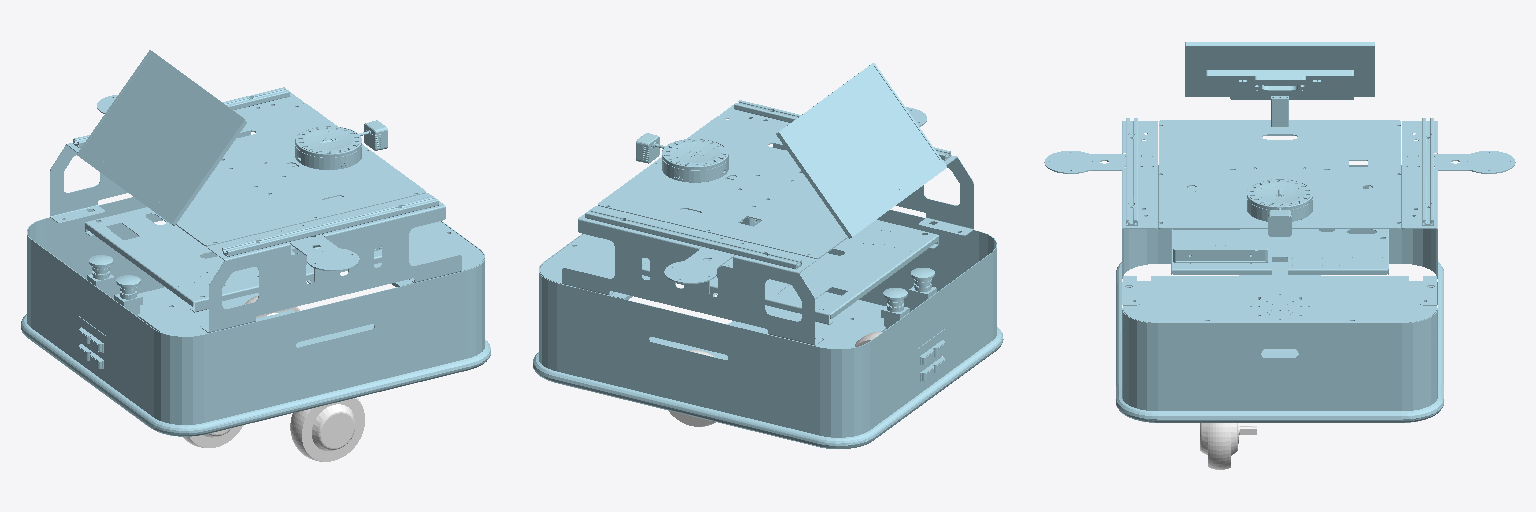
robot.urdf — lucsys_lse550_mec:
<?xml version="1.0" encoding="utf-8"?>
<robot name="lucsys_lse550_mec">
  <link name="base_link">
    <inertial>
      <origin xyz="-0.0176284106363391 -0.0212065922126046 0.00705733641663178" rpy="0 0 0" />
      <mass value="0.679600252032273" />
      <inertia ixx="0.000516343641288595" ixy="-1.73660367632987E-06" ixz="-4.24522803621893E-07" iyy="0.000760747638398563" iyz="-2.61267723541993E-07" izz="0.00116528983259254" />
    </inertial>
    <visual>
      <origin xyz="0 0 0" rpy="0 0 0" />
      <geometry>
        <mesh filename="package://lucsys_lse550_description/meshes/lse550_mec/base_link.STL" />
      </geometry>
      <material name="lucsys_material_0">
        <color rgba="0.741176470588235 0.901960784313726 0.956862745098039 1" />
      </material>
    </visual>
    <collision>
      <origin xyz="0 0 0" rpy="0 0 0" />
      <geometry>
        <mesh filename="package://lucsys_lse550_description/meshes/lse550_mec/base_link.STL" />
      </geometry>
    </collision>
  </link>
  <link name="lf_wheel_link">
    <inertial>
      <origin xyz="-4.83478163075103E-05 -0.00361887872849199 2.36591801651906E-05" rpy="0 0 0" />
      <mass value="0.0567325127195103" />
      <inertia ixx="2.10255136964011E-05" ixy="-1.1023479242183E-08" ixz="3.75231887164477E-09" iyy="3.39275378717873E-05" iyz="-8.51218162606208E-10" izz="2.10059722946959E-05" />
    </inertial>
    <visual>
      <origin xyz="0 0 0" rpy="0 0 0" />
      <geometry>
        <mesh filename="package://lucsys_lse550_description/meshes/lse550_mec/lf_wheel_link.STL" />
      </geometry>
      <material name="lucsys_material_1">
        <color rgba="1 1 1 1" />
      </material>
    </visual>
    <collision>
      <origin xyz="0 0 0" rpy="0 0 0" />
      <geometry>
        <mesh filename="package://lucsys_lse550_description/meshes/lse550_mec/lf_wheel_link.STL" />
      </geometry>
    </collision>
  </link>
  <joint name="lf_wheel_joint" type="continuous">
    <origin xyz="0.0788906867829701 0.099101092708038 -0.0363" rpy="0 0 0" />
    <parent link="base_link" />
    <child link="lf_wheel_link" />
    <axis xyz="0 1 0" />
  </joint>
  <link name="lb_wheel_link">
    <inertial>
      <origin xyz="-4.83408897442028E-05 -0.00361520799598775 2.36829907694566E-05" rpy="0 0 0" />
      <mass value="0.0567315810184634" />
      <inertia ixx="2.1025058702354E-05" ixy="-1.10244929776427E-08" ixz="3.74419002283728E-09" iyy="3.39268129235868E-05" iyz="-8.4580757766921E-10" izz="2.10055351725051E-05" />
    </inertial>
    <visual>
      <origin xyz="0 0 0" rpy="0 0 0" />
      <geometry>
        <mesh filename="package://lucsys_lse550_description/meshes/lse550_mec/lb_wheel_link.STL" />
      </geometry>
      <material name="lucsys_material_2">
        <color rgba="0.376470588235294 0.376470588235294 0.376470588235294 1" />
      </material>
    </visual>
    <collision>
      <origin xyz="0 0 0" rpy="0 0 0" />
      <geometry>
        <mesh filename="package://lucsys_lse550_description/meshes/lse550_mec/lb_wheel_link.STL" />
      </geometry>
    </collision>
  </link>
  <joint name="lb_wheel_joint" type="continuous">
    <origin xyz="-0.0930093132170299 0.0990810927080387 -0.0363" rpy="0 0 0" />
    <parent link="base_link" />
    <child link="lb_wheel_link" />
    <axis xyz="0 1 0" />
  </joint>
  <link name="rb_wheel_link">
    <inertial>
      <origin xyz="4.83478187074671E-05 0.00361887872849198 2.36591801651906E-05" rpy="0 0 0" />
      <mass value="0.0567325127195101" />
      <inertia ixx="2.1025513696401E-05" ixy="-1.1023479242199E-08" ixz="-3.7523188716606E-09" iyy="3.39275378717872E-05" iyz="8.5121816261345E-10" izz="2.10059722946958E-05" />
    </inertial>
    <visual>
      <origin xyz="0 0 0" rpy="0 0 0" />
      <geometry>
        <mesh filename="package://lucsys_lse550_description/meshes/lse550_mec/rb_wheel_link.STL" />
      </geometry>
      <material name="lucsys_material_3">
        <color rgba="1 1 1 1" />
      </material>
    </visual>
    <collision>
      <origin xyz="0 0 0" rpy="0 0 0" />
      <geometry>
        <mesh filename="package://lucsys_lse550_description/meshes/lse550_mec/rb_wheel_link.STL" />
      </geometry>
    </collision>
  </link>
  <joint name="rb_wheel_joint" type="continuous">
    <origin xyz="-0.0930093132170305 -0.0989229072919614 -0.0363" rpy="0 0 0" />
    <parent link="base_link" />
    <child link="rb_wheel_link" />
    <axis xyz="0 1 0" />
  </joint>
  <link name="rf_wheel_link">
    <inertial>
      <origin xyz="4.83408906942385E-05 0.0036152079959877 2.36829907694774E-05" rpy="0 0 0" />
      <mass value="0.0567315810184633" />
      <inertia ixx="2.1025058702354E-05" ixy="-1.10244929776398E-08" ixz="-3.74419002285257E-09" iyy="3.39268129235868E-05" iyz="8.45807577677436E-10" izz="2.10055351725051E-05" />
    </inertial>
    <visual>
      <origin xyz="0 0 0" rpy="0 0 0" />
      <geometry>
        <mesh filename="package://lucsys_lse550_description/meshes/lse550_mec/rf_wheel_link.STL" />
      </geometry>
      <material name="lucsys_material_4">
        <color rgba="1 1 1 1" />
      </material>
    </visual>
    <collision>
      <origin xyz="0 0 0" rpy="0 0 0" />
      <geometry>
        <mesh filename="package://lucsys_lse550_description/meshes/lse550_mec/rf_wheel_link.STL" />
      </geometry>
    </collision>
  </link>
  <joint name="rf_wheel_joint" type="continuous">
    <origin xyz="0.0788906867829694 -0.098902907291962 -0.0363" rpy="0 0 0" />
    <parent link="base_link" />
    <child link="rf_wheel_link" />
    <axis xyz="0 1 0" />
  </joint>
  <link name="controller_link">
    <inertial>
      <origin xyz="-0.017877242180046 0.0389174701067245 0.0213653101693057" rpy="0 0 0" />
      <mass value="0.0391683061674007" />
      <inertia ixx="2.20183096868336E-05" ixy="1.2570811872774E-06" ixz="1.53420711428688E-09" iyy="2.40630534171015E-05" iyz="2.2778658628168E-07" izz="4.51084285172614E-05" />
    </inertial>
    <visual>
      <origin xyz="0 0 0" rpy="0 0 0" />
      <geometry>
        <mesh filename="package://lucsys_lse550_description/meshes/lse550_mec/controller_link.STL" />
      </geometry>
      <material name="lucsys_material_5">
        <color rgba="1 1 1 1" />
      </material>
    </visual>
    <collision>
      <origin xyz="0 0 0" rpy="0 0 0" />
      <geometry>
        <mesh filename="package://lucsys_lse550_description/meshes/lse550_mec/controller_link.STL" />
      </geometry>
    </collision>
  </link>
  <joint name="controller_joint" type="fixed">
    <origin xyz="-0.0556343132168706 -0.0407821141826353 0.0519999999999999" rpy="0 0 0" />
    <parent link="base_link" />
    <child link="controller_link" />
    <axis xyz="0 0 0" />
  </joint>
  <link name="laser_link">
    <inertial>
      <origin xyz="0.001964586310461 -3.5789542839353E-06 -0.00020183163277164" rpy="0 0 0" />
      <mass value="0.0477519163775583" />
      <inertia ixx="3.38461999766101E-05" ixy="-2.19897141949925E-09" ixz="1.07118468648131E-06" iyy="3.94150415881323E-05" iyz="6.83978165807927E-10" izz="5.60787042136425E-05" />
    </inertial>
    <visual>
      <origin xyz="0 0 0" rpy="0 0 0" />
      <geometry>
        <mesh filename="package://lucsys_lse550_description/meshes/lse550_mec/laser.STL" />
      </geometry>
      <material name="lucsys_material_6">
        <color rgba="0.376470588235294 0.376470588235294 0.376470588235294 1" />
      </material>
    </visual>
    <collision>
      <origin xyz="0 0 0" rpy="0 0 0" />
      <geometry>
        <mesh filename="package://lucsys_lse550_description/meshes/lse550_mec/laser.STL" />
      </geometry>
    </collision>
  </link>
  <joint name="laser_joint" type="fixed">
    <origin xyz="0.0316310367407428 9.05810809802502E-05 0.095024183741431" rpy="0 0 3.14159265358979" />
    <parent link="base_link" />
    <child link="laser_link" />
    <axis xyz="0 0 0" />
  </joint>
  <link name="camera_link">
    <inertial>
      <origin xyz="3.50190324457239E-07 9.10362272514738E-08 1.0762423485744E-07" rpy="0 0 0" />
      <mass value="0.0559842512080123" />
      <inertia ixx="0.000130810959339217" ixy="1.20255128206215E-07" ixz="1.62335437080132E-06" iyy="1.911486349679E-05" iyz="-2.80016755799908E-08" izz="0.00013138746952303" />
    </inertial>
    <visual>
      <origin xyz="0 0 0" rpy="0 0 0" />
      <geometry>
        <mesh filename="package://lucsys_lse550_description/meshes/lse550_mec/camera_link.STL" />
      </geometry>
      <material name="lucsys_material_7">
        <color rgba="1 1 1 1" />
      </material>
    </visual>
    <collision>
      <origin xyz="0 0 0" rpy="0 0 0" />
      <geometry>
        <mesh filename="package://lucsys_lse550_description/meshes/lse550_mec/camera_link.STL" />
      </geometry>
    </collision>
  </link>
  <joint name="camera_joint" type="fixed">
    <origin xyz="0.10709468678297 0.000317092708037946 0.076204" rpy="0 0 0" />
    <parent link="base_link" />
    <child link="camera_link" />
    <axis xyz="0 0 0" />
  </joint>
</robot>

--- Render facts (derived) ---
3 views of the same robot in one strip: view 1: azimuth 30°, elevation 25°; view 2: azimuth 150°, elevation 25°; view 3: azimuth 270°, elevation 25° (orthographic).
Robot: lucsys_lse550_mec — 8 links, 7 joints (4 continuous, 3 fixed); root link base_link; default pose: every joint at zero.
Links seen in each view (by area): view 1: base_link, rf_wheel_link, rb_wheel_link; view 2: base_link; view 3: base_link, rf_wheel_link.
Link boxes in pixels (bbox=[...]): base_link: bbox=[21, 50, 490, 436]; rf_wheel_link: bbox=[290, 398, 364, 461]; rb_wheel_link: bbox=[183, 425, 243, 447]; base_link: bbox=[533, 63, 1003, 448]; base_link: bbox=[1044, 42, 1515, 422]; rf_wheel_link: bbox=[1200, 423, 1256, 469].
Bounding box of the posed robot: 0.64 × 0.7764 × 0.6837 m (x, y, z).
4 mesh visuals loaded from 8 distinct referenced files (4 binary STL); not drawn: 4 (reference not matched to a file when rendering).
